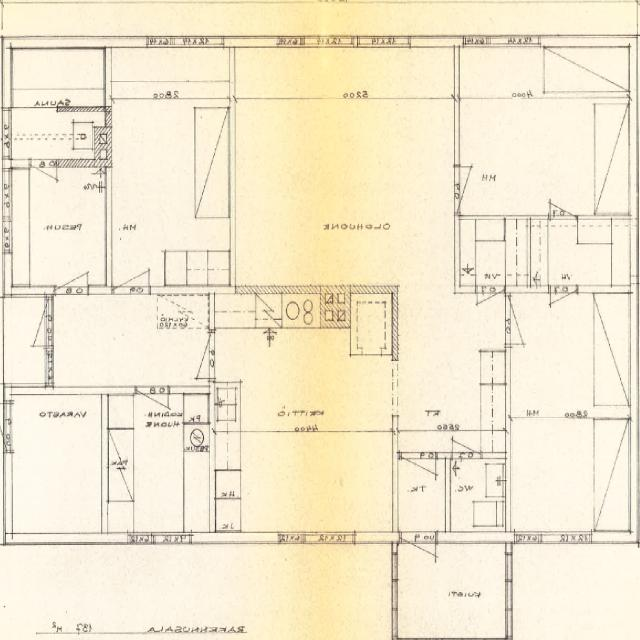door: (401, 531, 436, 591), (11, 300, 55, 346), (401, 452, 436, 506), (506, 297, 546, 344), (115, 240, 149, 294), (175, 332, 214, 378), (454, 167, 493, 211), (56, 244, 88, 294), (137, 387, 169, 437), (550, 285, 578, 329), (30, 159, 56, 203), (477, 286, 504, 328), (452, 417, 478, 459), (551, 180, 576, 220), (0, 403, 12, 450)
